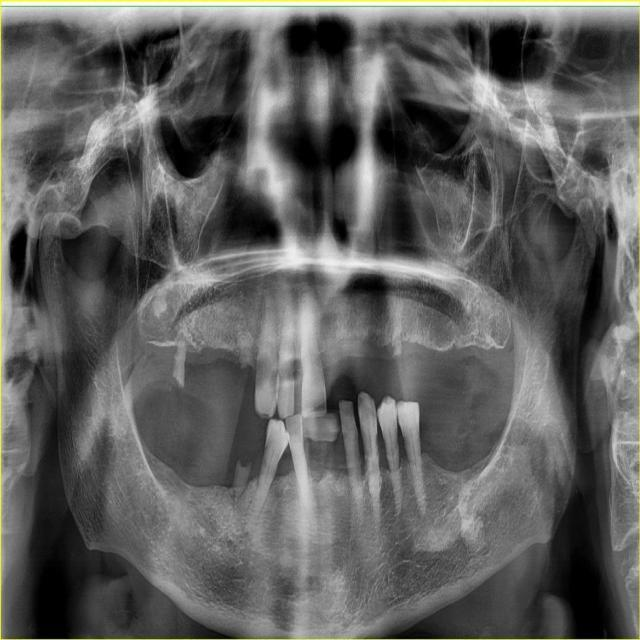Caries: (256, 353, 279, 402)
Missing teeth: (141, 414, 238, 486), (420, 402, 498, 472), (302, 402, 351, 481), (404, 343, 502, 381), (330, 336, 396, 387), (182, 349, 239, 401)
Root Piece: (239, 310, 256, 369), (233, 455, 253, 498), (173, 332, 188, 388)
